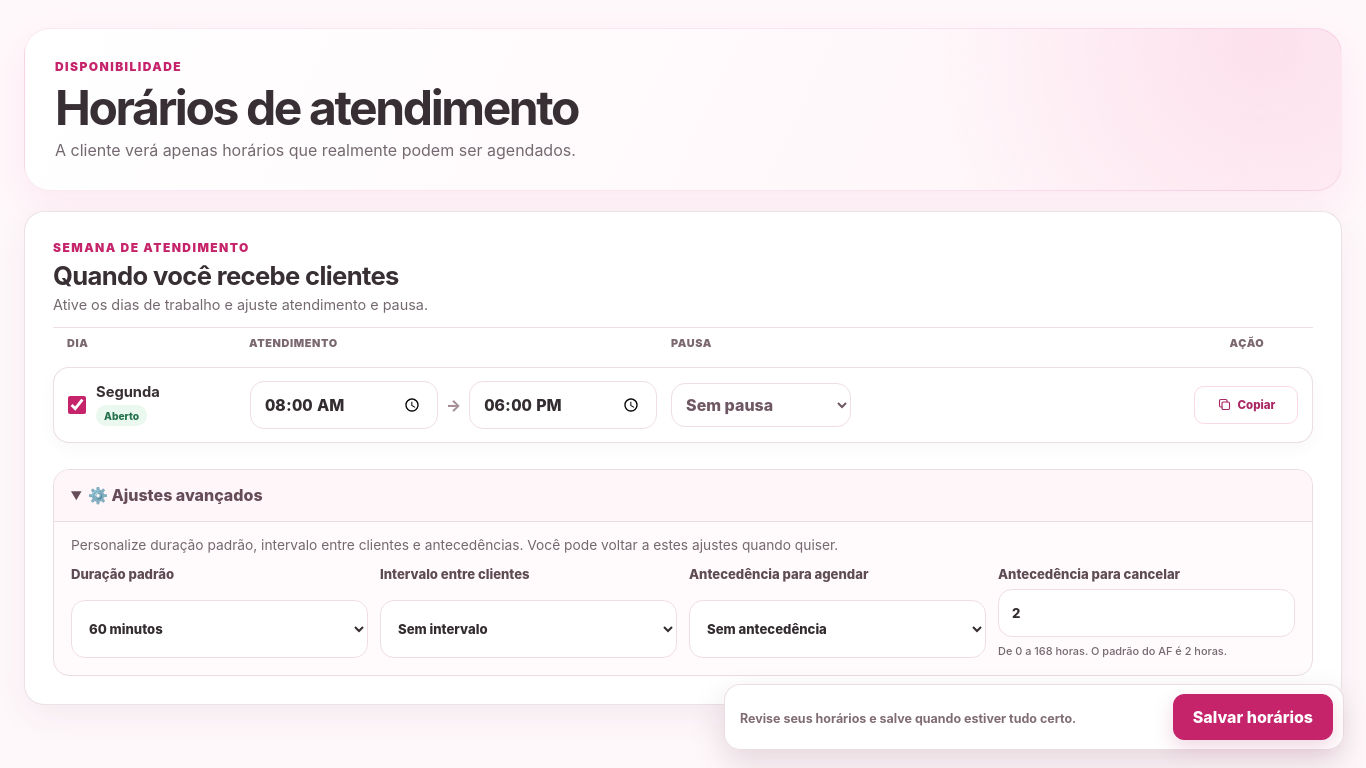
recuperação das leituras de ativação em horários › preserva o link confirmado após salvar diante de uma resposta antiga: sem disponibilidade
The image size is (1366, 768).
Replace the text in the time field named "Início do atendimento de Segunda" with "09:00" at (344, 405), box 250,381 -> 438,429
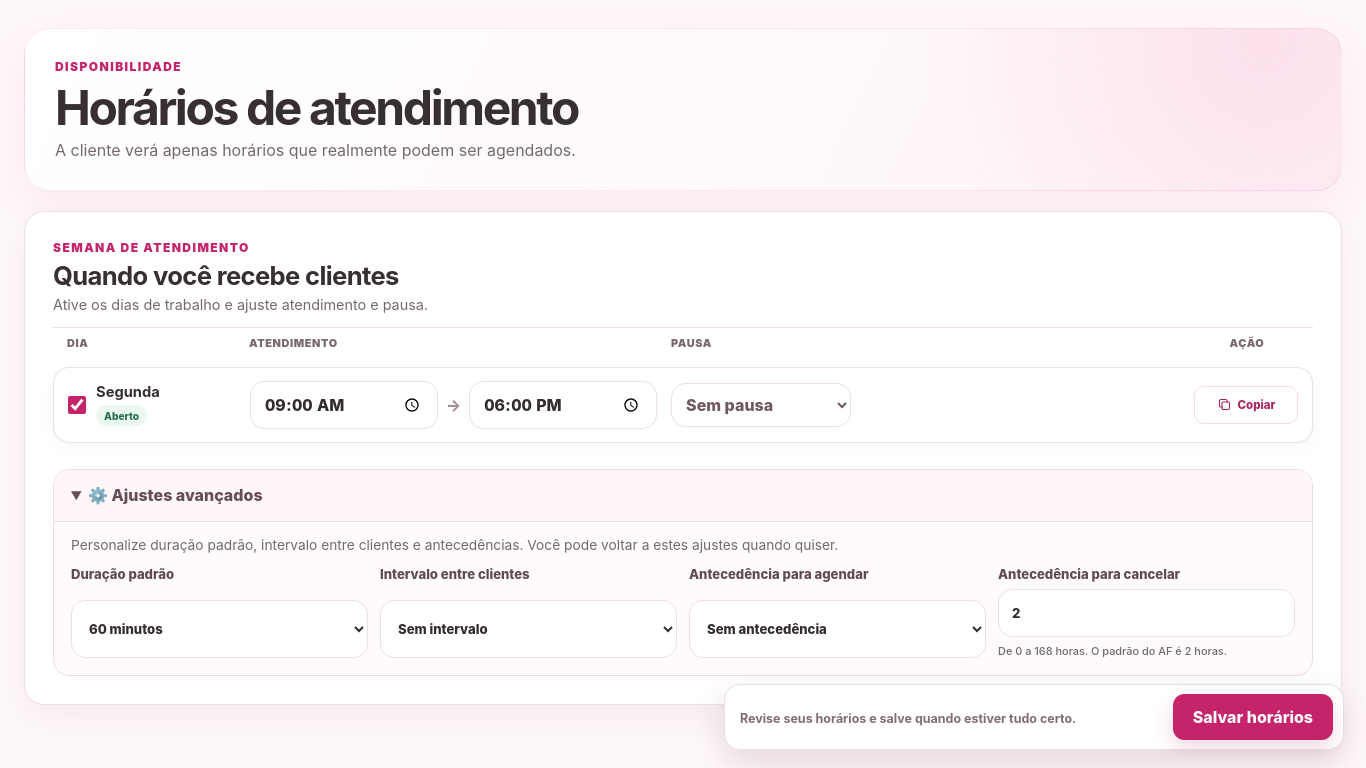
Click the button "Salvar horários" at (1253, 717), box 1173,694 -> 1333,740
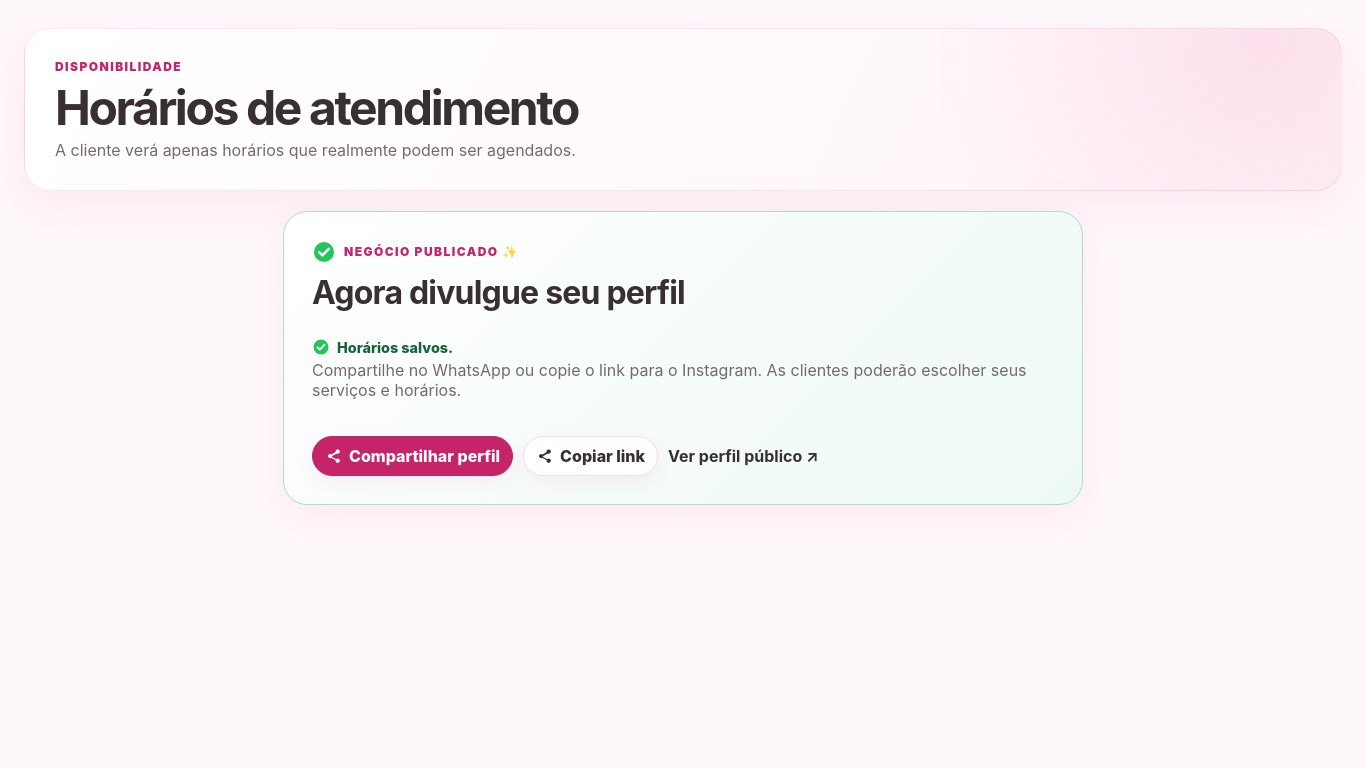
Expected: the button "Copiar link" is shown, 523,436 -> 658,476
Expected: the button "Compartilhar perfil" is shown, 312,436 -> 513,476
